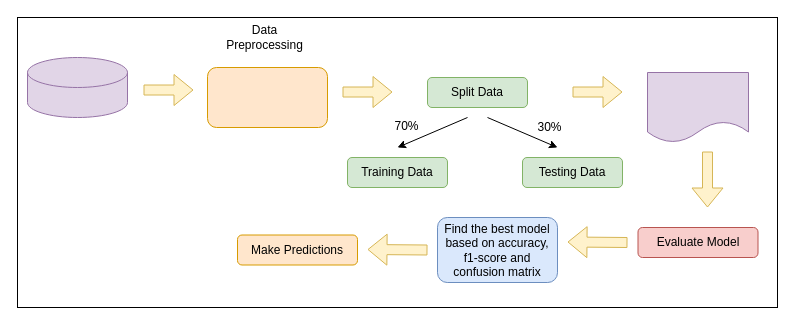
This 795x325 diagram has some shape labels left out. The centre of each missing label's shape, as x and y in pixels:
"Data" goes at point 77,87.
"Data Cleaning Feature Extraction Creating Dummy Variables" goes at point 267,97.
"Model" goes at point 697,107.
